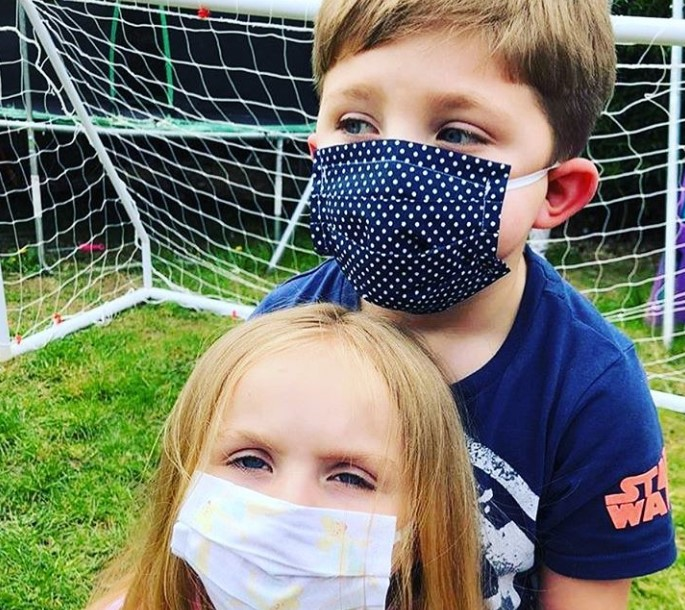face_with_mask: (301, 1, 607, 310), (169, 317, 436, 610)
